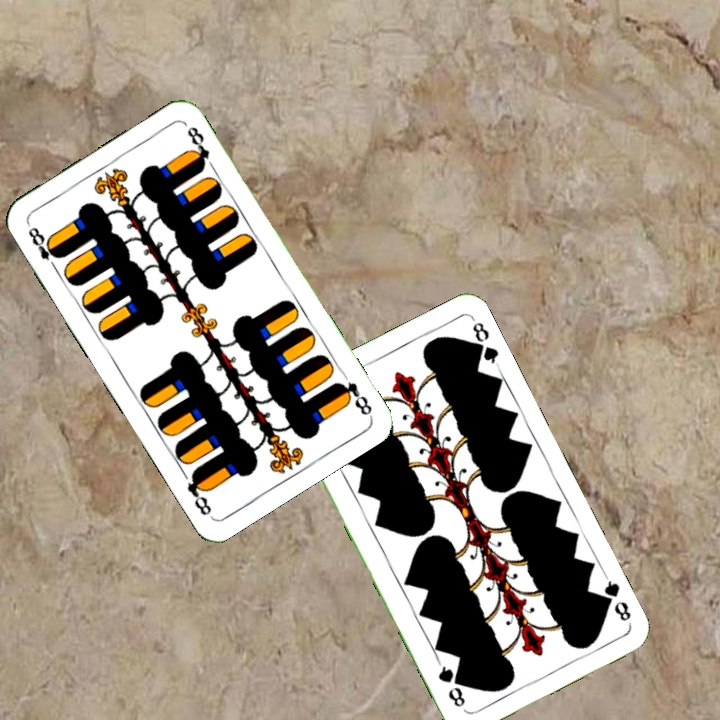E8: (24, 222, 64, 274), (331, 377, 375, 419)
G8: (595, 573, 634, 624)
